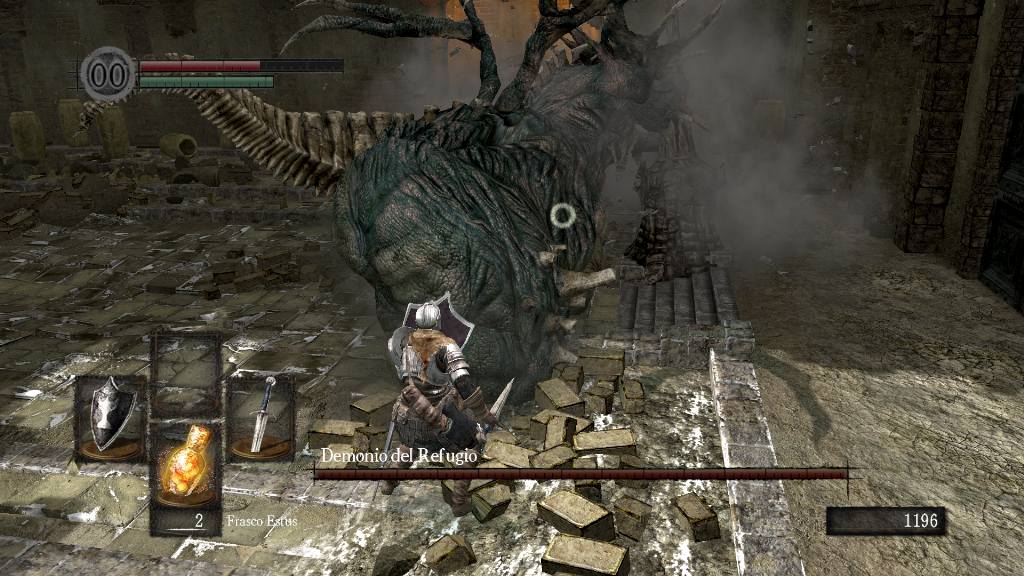asylumDemon: (72, 1, 727, 423)
bossHP: (314, 469, 847, 479)
health: (138, 58, 343, 71)
humanity: (80, 45, 136, 102)
player: (380, 290, 516, 515)
souls: (825, 506, 945, 536)
stamina: (138, 74, 274, 88)
